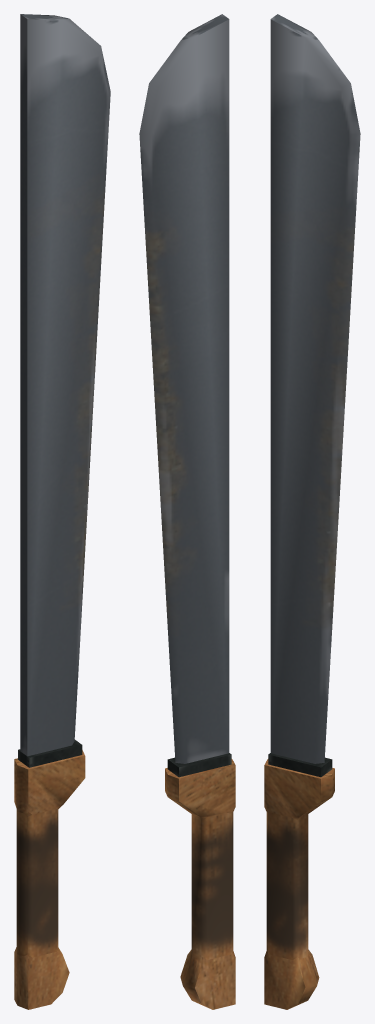
The model's file is FarmEquip_Machete.fbx.
3 renders of one model, left to right at view 1: azimuth 30°, elevation 25°; view 2: azimuth 210°, elevation 25°; view 3: azimuth 330°, elevation 25°, orthographic.
Visible parts, largest first — view 1: FarmEquip_Machete; view 2: FarmEquip_Machete; view 3: FarmEquip_Machete.
Boxes of the visible parts, x1,y1,x2,y2 form: FarmEquip_Machete: (14, 14, 110, 1009); FarmEquip_Machete: (139, 14, 235, 1009); FarmEquip_Machete: (264, 14, 360, 1009).
Bounding box in the file's own units: 0.0757 × 0.7655 × 0.02.
